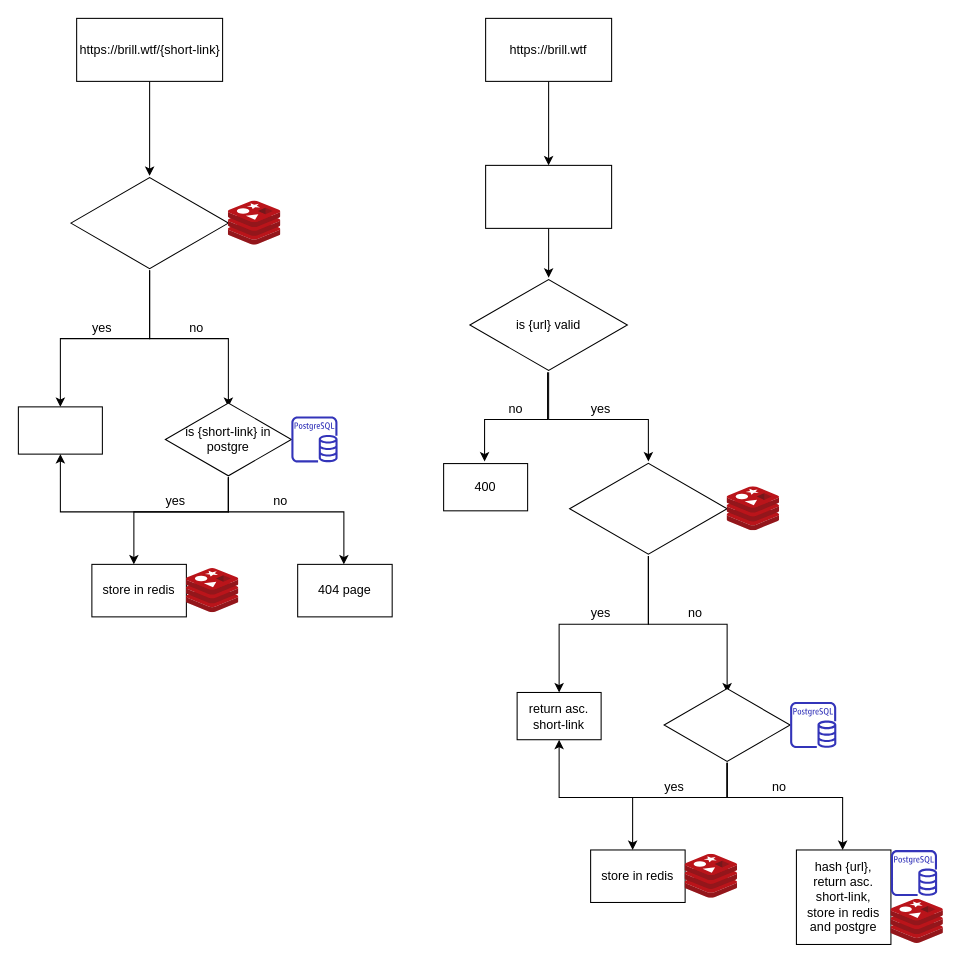
The diagram is 962 pixels wide and 963 high, and some of its shapes have lost their labels. Each missing label, with the centre of its shape:
is {short-link} in redis: [149,222]
is {url} in postgre: [726,724]
is {url} in redis: [648,508]
Landing page to create link: [548,196]
navigate to stored url: [59,430]
